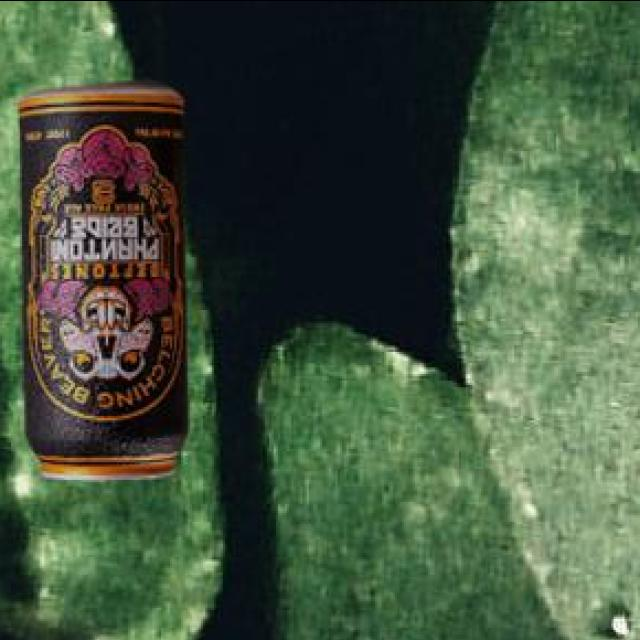logam: (17, 83, 184, 482)
